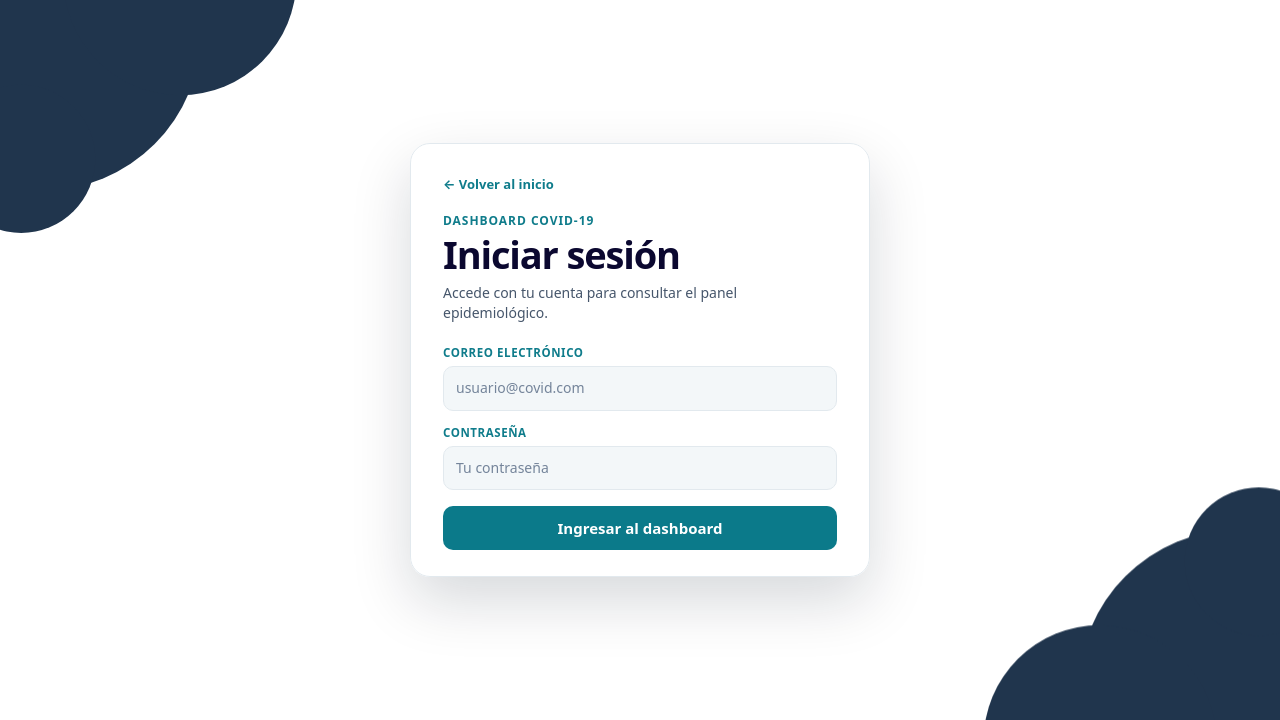
Test case: flujos de autenticación y rutas › muestra errores del servidor si el inicio de sesión falla
Type "ana@example.com" into the field labelled "Correo electrónico".
click(640, 389); type("ana@example.com")  # box top-left (443, 366), bottom-right (837, 411)
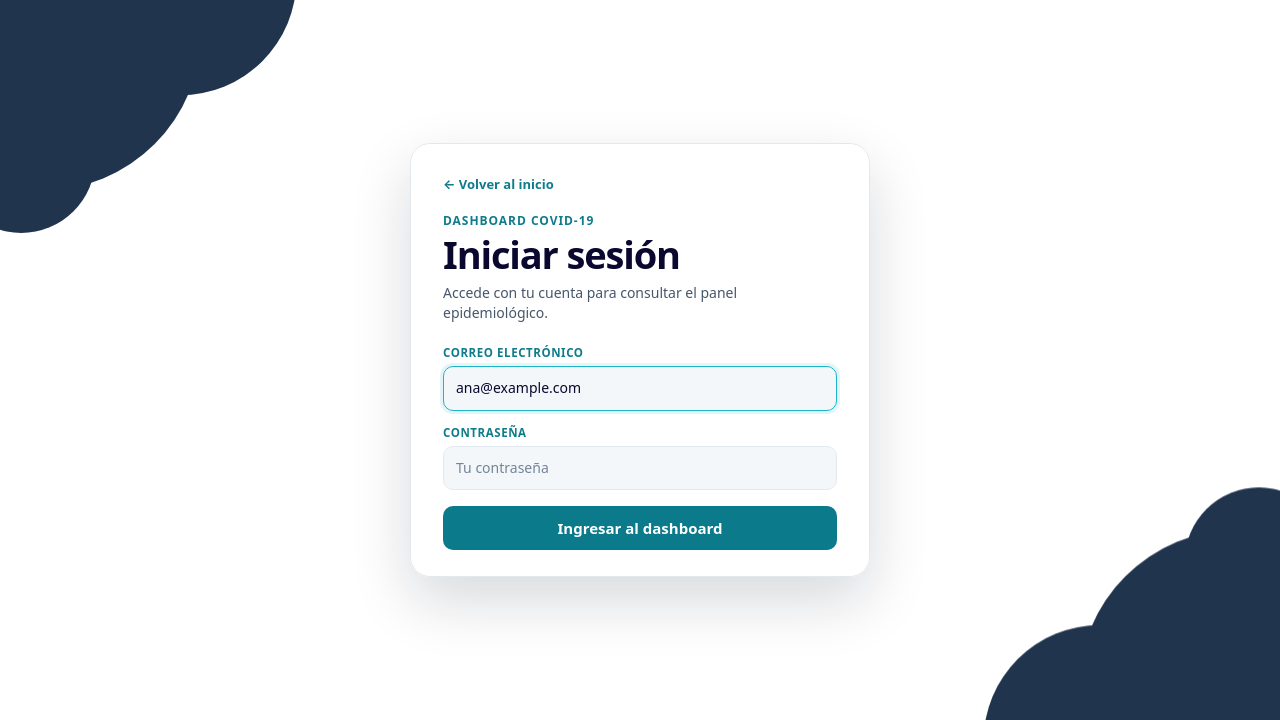
Type "incorrecta" into the password field labelled "Contraseña".
click(640, 468); type("incorrecta")  # box top-left (443, 446), bottom-right (837, 490)
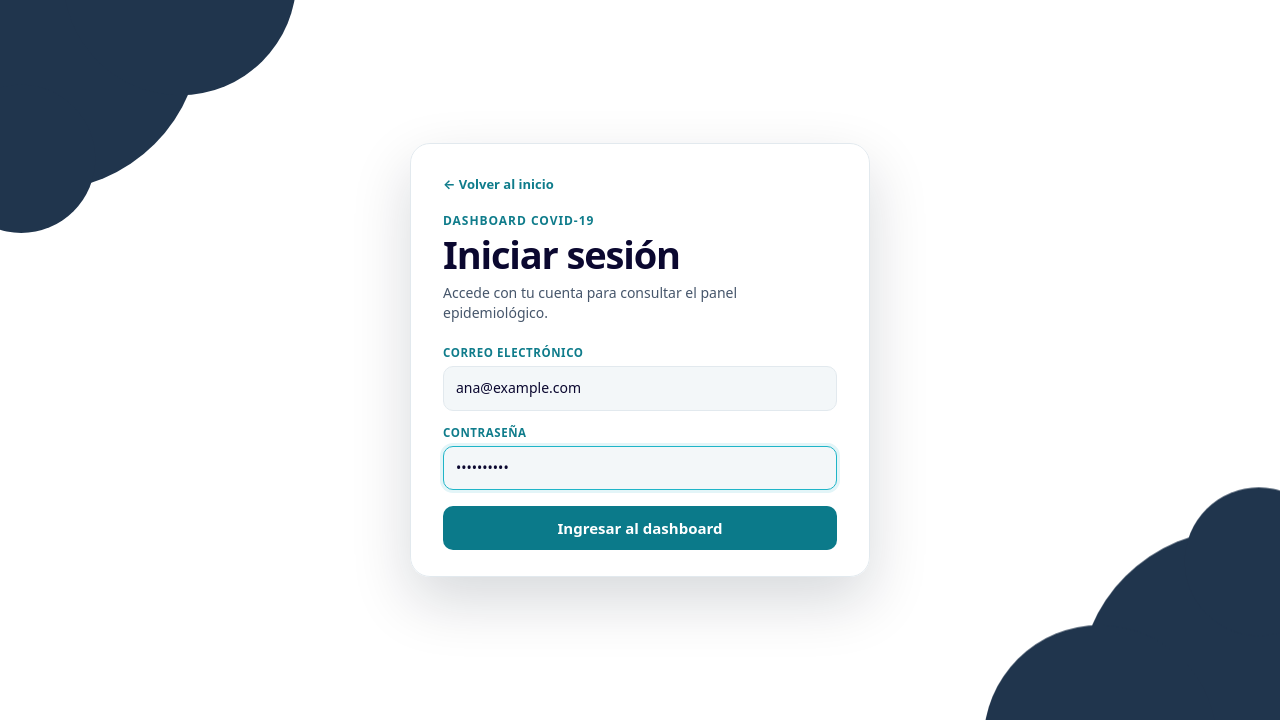
Click the button "Ingresar al dashboard".
click(640, 528)  # box top-left (443, 506), bottom-right (837, 550)
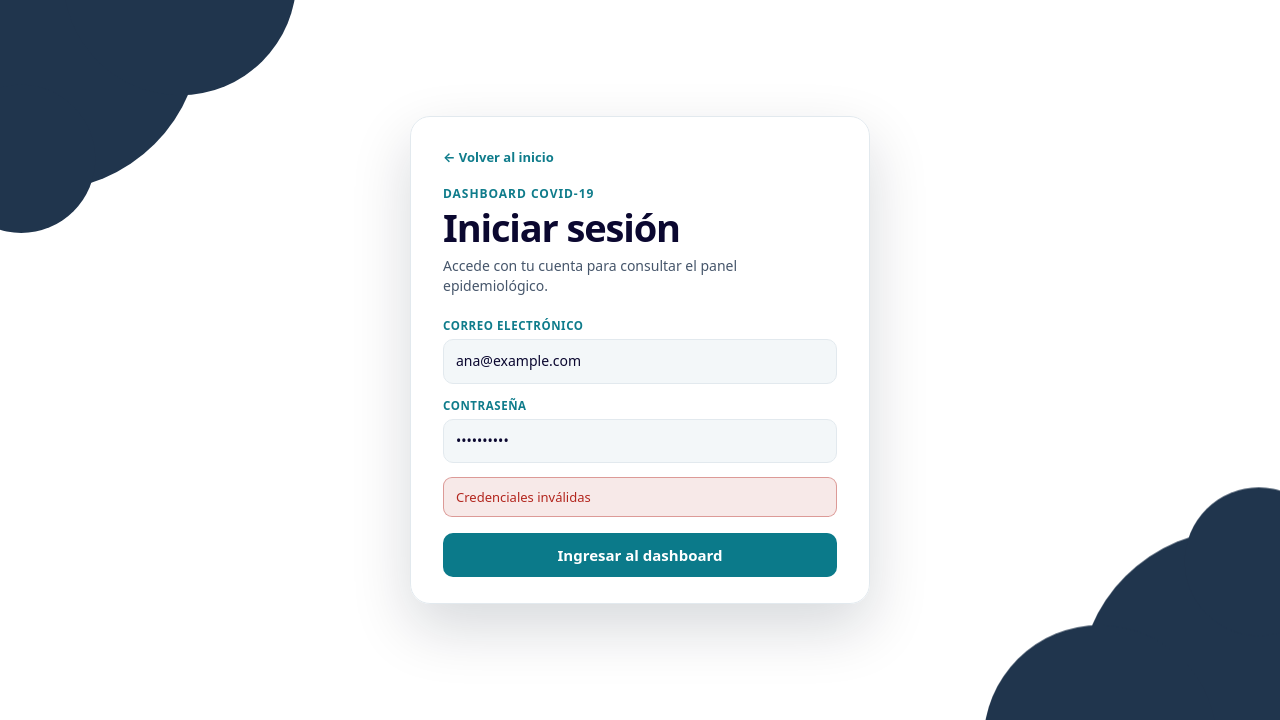
Result: the message reads "Credenciales inválidas" at top-left (456, 488), bottom-right (591, 506)
